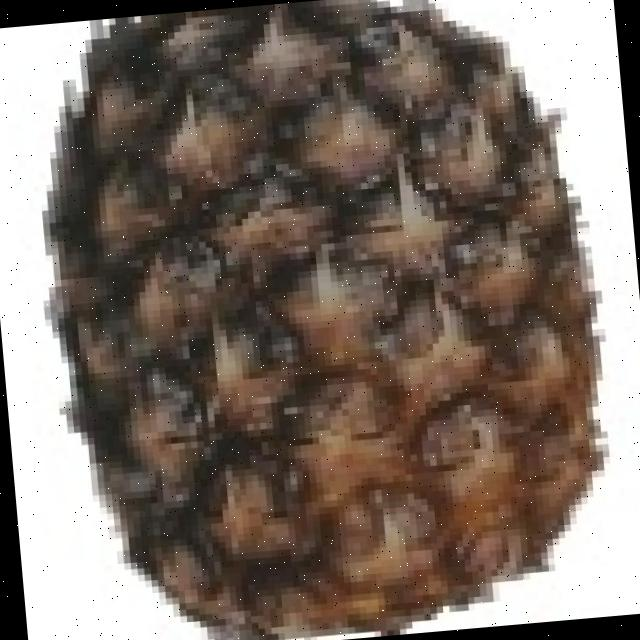pineapple: (48, 0, 601, 640)
